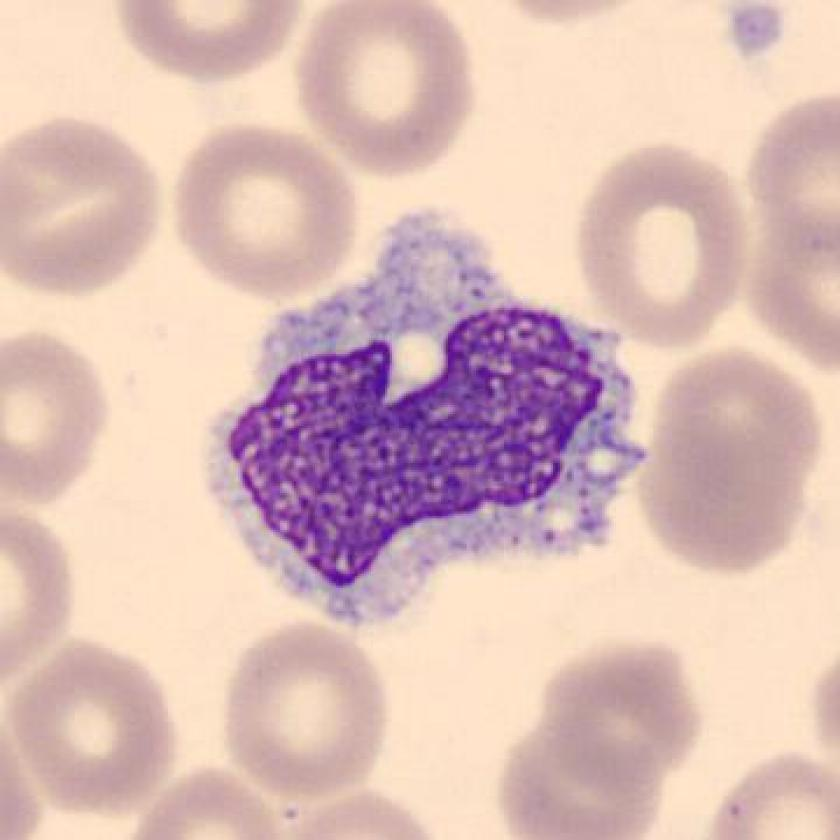monocyte: (183, 186, 659, 642)
